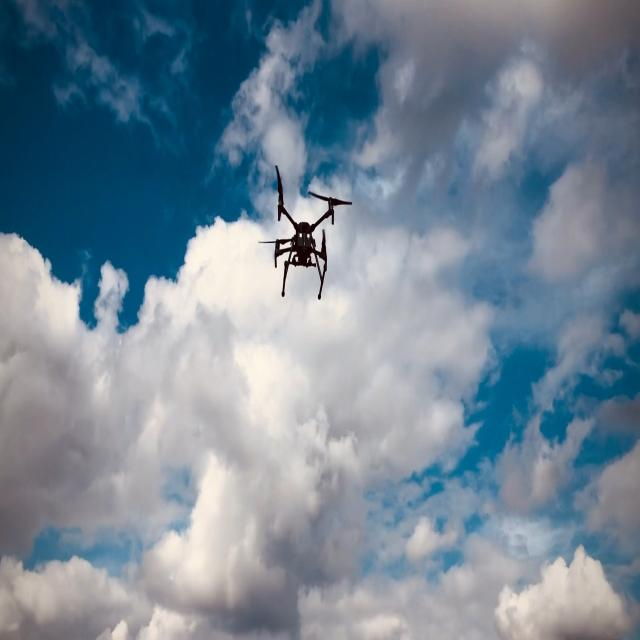drone: (258, 163, 352, 300)
